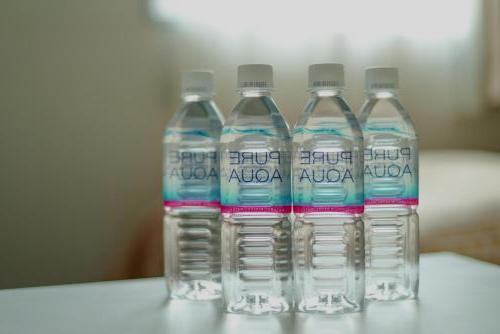bottle: (285, 59, 367, 318), (340, 61, 424, 310), (158, 60, 228, 306), (232, 58, 282, 322)
